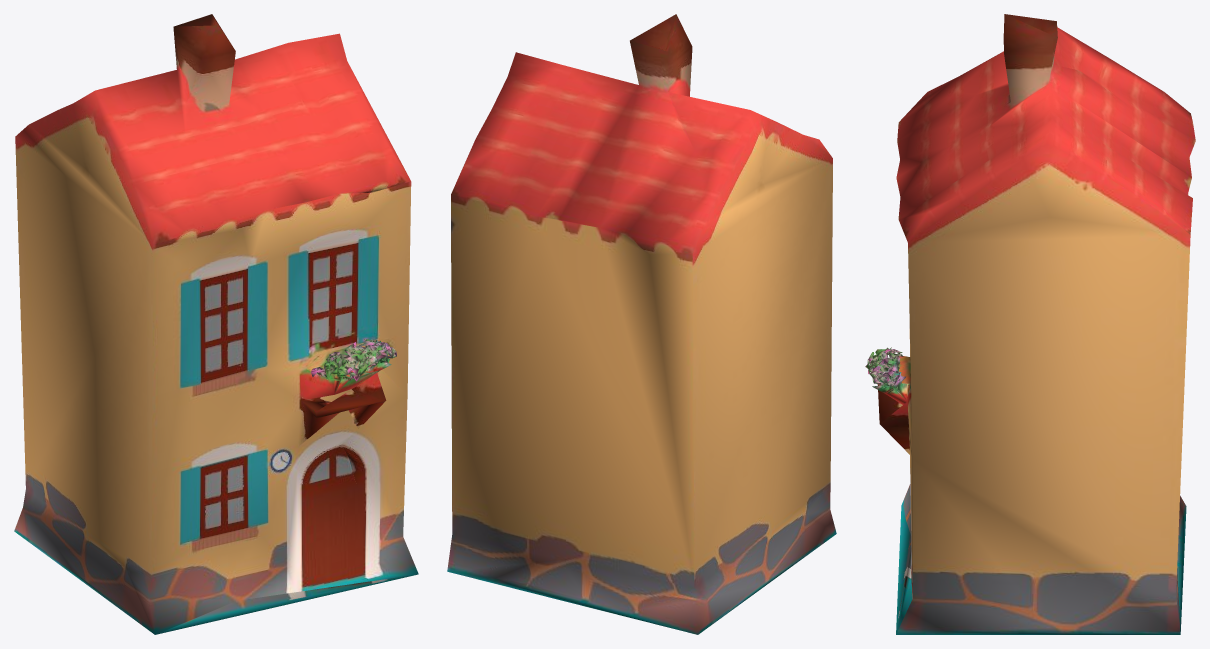
The model's file is house_terra_2.glb.
The picture shows the model from 3 angles, left to right: view 1: azimuth 30°, elevation 25°; view 2: azimuth 150°, elevation 25°; view 3: azimuth 270°, elevation 25°; orthographic projection. The views are drawn at different scales.
Visible parts, largest first — view 1: ЦІЛЬ; view 2: ЦІЛЬ; view 3: ЦІЛЬ.
Part boxes in pixels (box(x1,y1,x2,y2)): ЦІЛЬ: box(14, 14, 418, 634); ЦІЛЬ: box(447, 14, 836, 634); ЦІЛЬ: box(865, 14, 1195, 634).
Size of the model in its own units: 1.13 by 2.25 by 1.23.
1 material, 1 textured.
